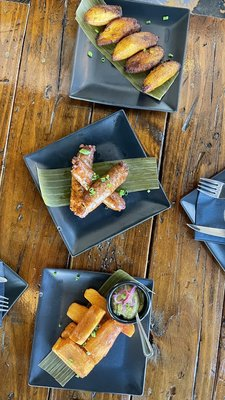soup: (68, 144, 130, 218), (141, 60, 180, 99)
